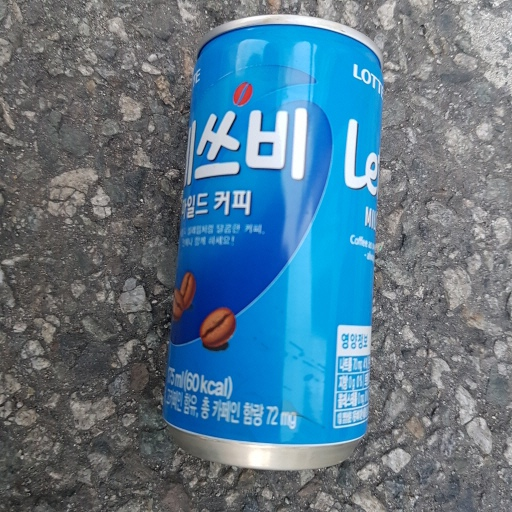Metal_0: (155, 13, 385, 472)
